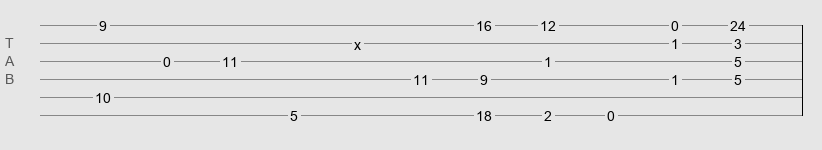0: (163, 54, 171, 64), (607, 108, 615, 118), (671, 18, 679, 28)
1: (544, 54, 552, 64), (671, 72, 679, 82), (671, 36, 679, 46)
10: (95, 90, 111, 100)
11: (222, 54, 238, 64), (413, 72, 429, 82)
12: (540, 18, 556, 28)
16: (476, 18, 492, 28)
18: (476, 108, 492, 118)
2: (544, 108, 552, 118)
24: (730, 18, 746, 28)
3: (734, 36, 742, 46)
5: (290, 108, 298, 118), (734, 54, 742, 64), (734, 72, 742, 82)
9: (99, 18, 107, 28), (480, 72, 488, 82)
x: (354, 37, 361, 45)
